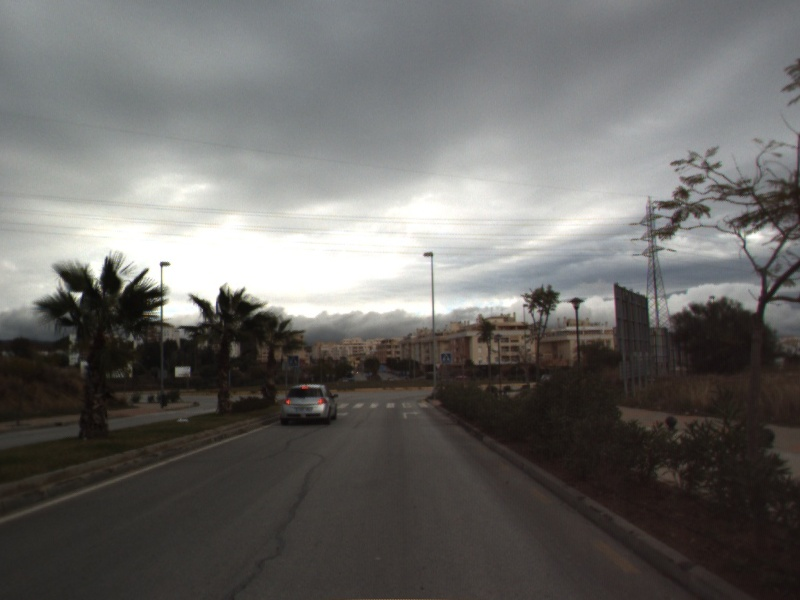RIGHT: (400, 409, 423, 421)
